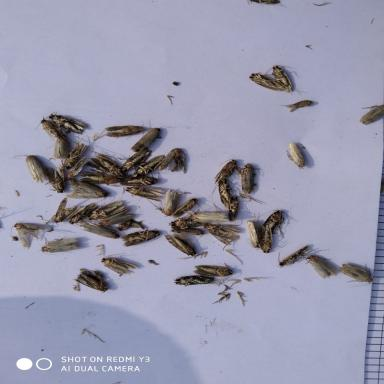pbw: (131, 125, 172, 153), (66, 176, 110, 202), (8, 220, 46, 250), (59, 135, 89, 169), (42, 112, 87, 134), (202, 220, 240, 246), (306, 249, 338, 279), (72, 268, 109, 292), (266, 64, 297, 92), (164, 232, 200, 256), (100, 253, 138, 275), (154, 148, 186, 174), (277, 244, 311, 268), (89, 152, 123, 176), (52, 197, 83, 223), (168, 208, 204, 230), (75, 221, 119, 239), (256, 209, 290, 232), (34, 116, 65, 141), (237, 163, 262, 194), (104, 119, 144, 138), (131, 154, 164, 177), (41, 235, 78, 255), (91, 200, 128, 220), (338, 262, 373, 283), (120, 229, 160, 247), (67, 201, 98, 224), (170, 197, 203, 218), (181, 208, 228, 222), (100, 207, 136, 225), (249, 72, 284, 90), (211, 176, 231, 206), (213, 159, 238, 183), (194, 262, 234, 277), (65, 156, 90, 180), (285, 141, 306, 169), (44, 165, 65, 193), (23, 154, 44, 182), (121, 151, 150, 171), (124, 187, 165, 201), (120, 171, 158, 186), (80, 172, 122, 184), (359, 104, 384, 124), (173, 274, 214, 286), (51, 136, 72, 158), (246, 220, 262, 248), (278, 99, 314, 111), (162, 190, 179, 214), (227, 195, 240, 220), (261, 225, 272, 253), (169, 228, 203, 235)
